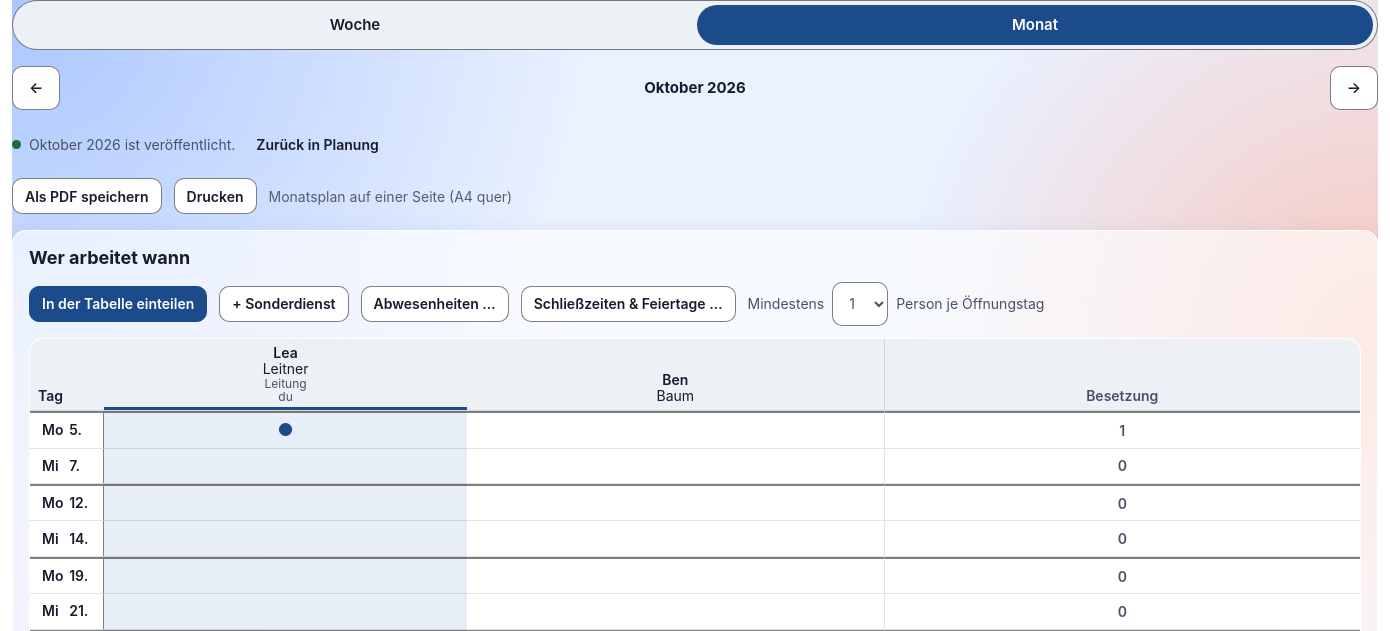
Test: Einsatz-Matrix bearbeiten (Monat) › Klick teilt ein oder nimmt heraus; erst Speichern schickt alles in einem Schritt
Click the button "In der Tabelle einteilen" at (118, 304), box 29,286 -> 207,322
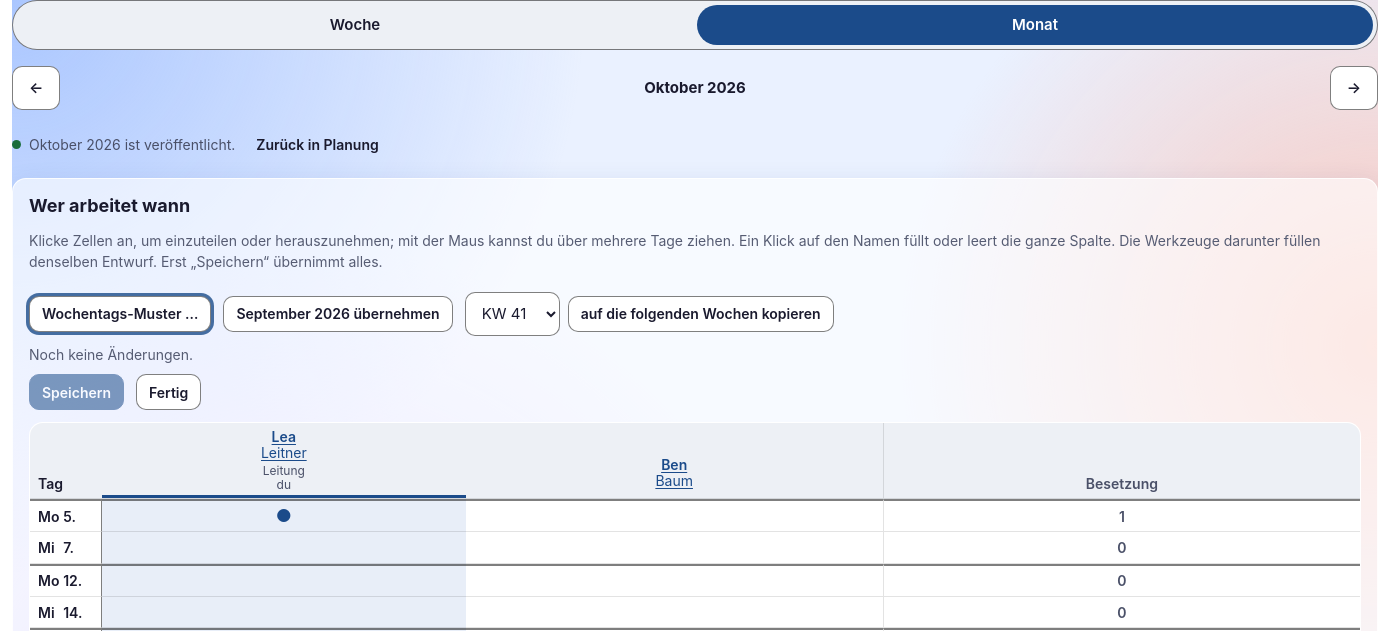
Click the button named "Ben Baum, Mi 7." at (674, 548), box 466,532 -> 883,563
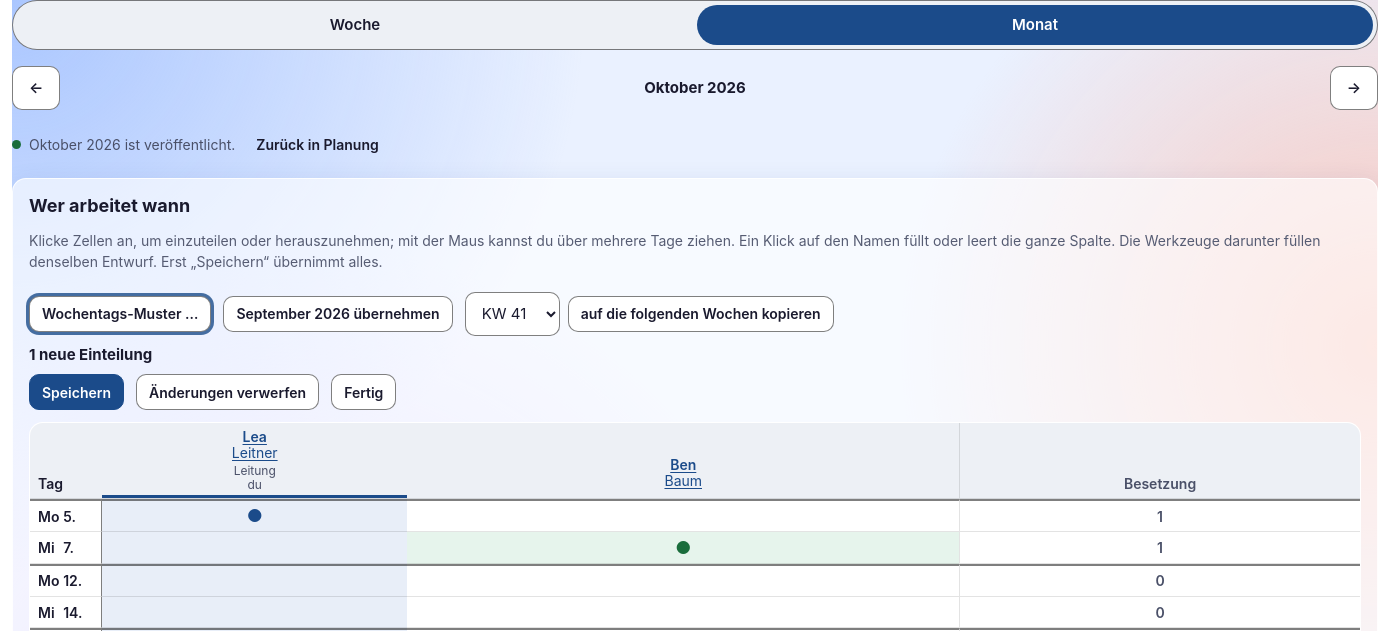
Click the 1st button "●" at (255, 516), box 102,501 -> 408,531
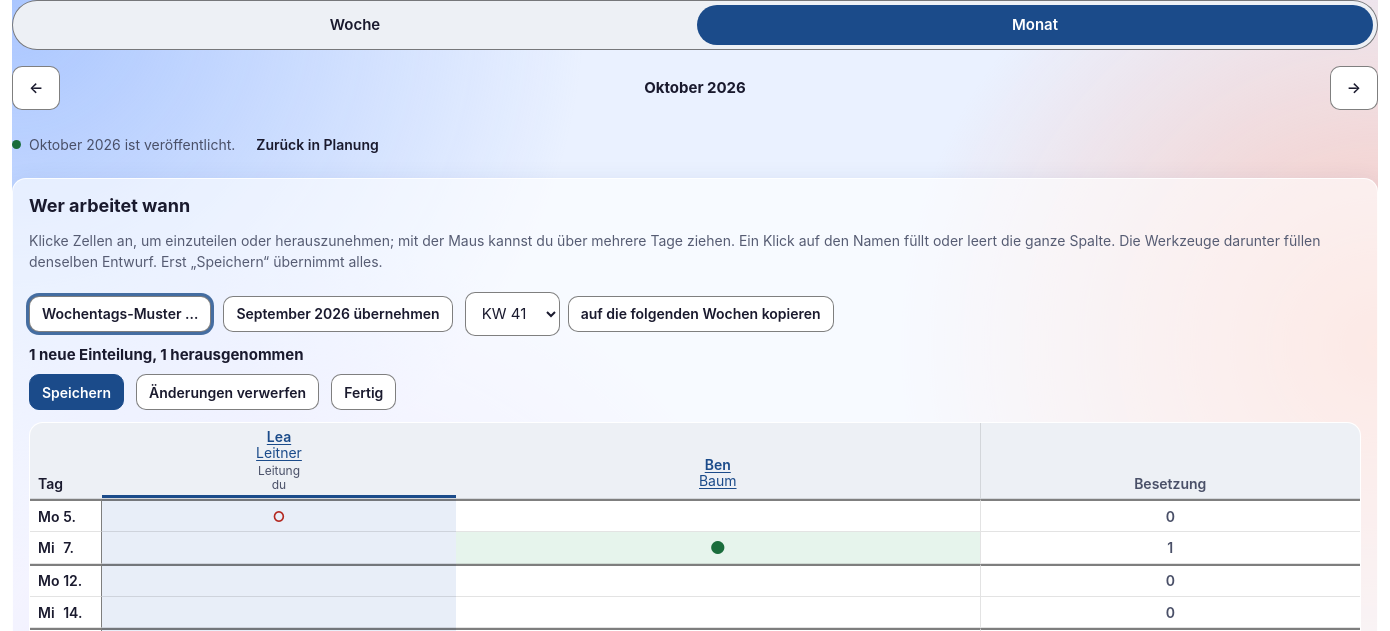
Check: the text "1 neue Einteilung, 1 herausgenommen" is shown, box 29,344 -> 304,364
Click the button "Speichern" at (77, 392), box 29,374 -> 124,410
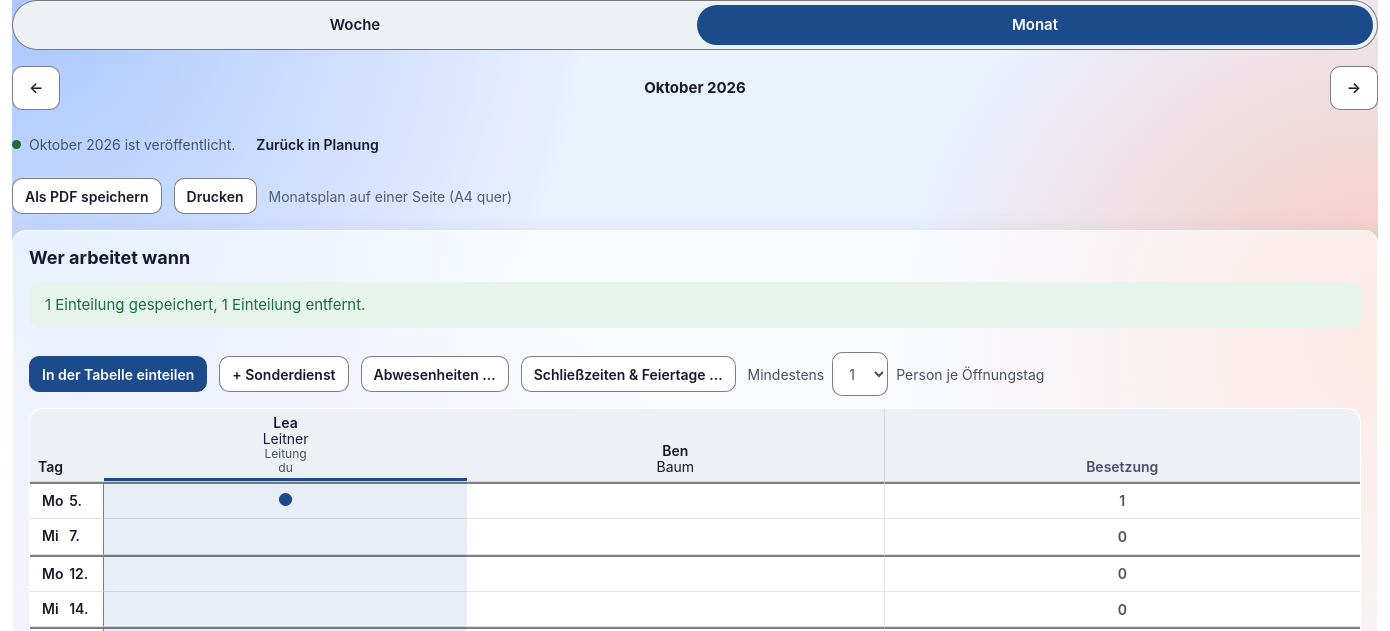
Check: the text "1 Einteilung gespeichert, 1 Einteilung entfernt." is shown, box 29,282 -> 1361,328
Check: the button "In der Tabelle einteilen" is shown, box 29,356 -> 207,392
